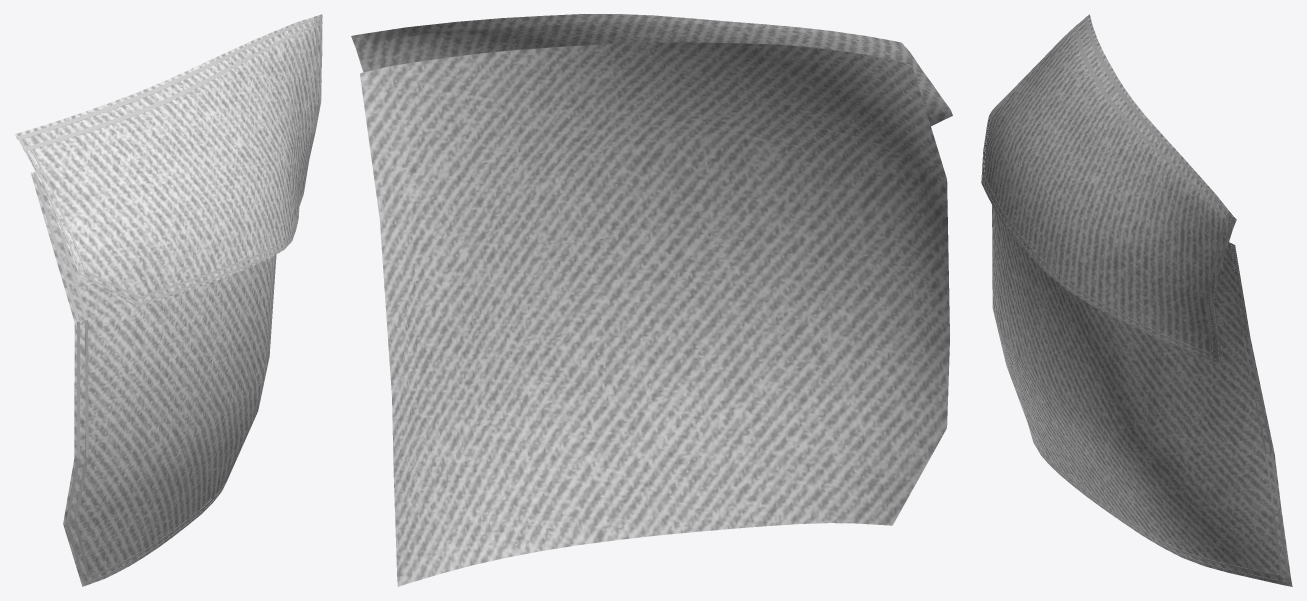
File: Pocket_Left_V1.glb
3 renders of one model, left to right at view 1: azimuth 30°, elevation 25°; view 2: azimuth 150°, elevation 25°; view 3: azimuth 270°, elevation 25°, orthographic. The views are drawn at different scales.
Visible parts, largest first — view 1: Pocket_Left_V11, Rope1; view 2: Pocket_Left_V11; view 3: Pocket_Left_V11, Rope1.
Boxes of the visible parts, x1,y1,x2,y2 form: Pocket_Left_V11: (14,14,322,586); Rope1: (16,15,322,584); Pocket_Left_V11: (351,14,952,586); Pocket_Left_V11: (981,14,1292,586); Rope1: (981,16,1290,584).
Size of the model in its own units: 0.2004 by 0.227 by 0.1495.
2 materials, 2 textured.
